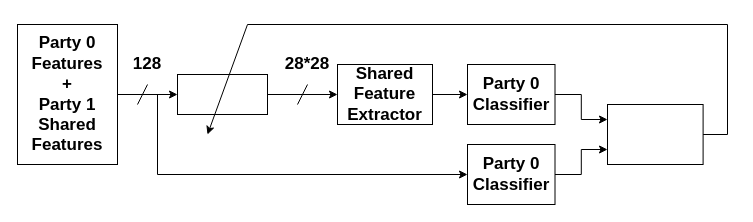
Image size: 753x222. Some labels were removed from this diagram. Here are the shapes that lost their labels. From the top down, the centre of each, then its label:
At (x=222, y=94): "Generator".
At (x=654, y=134): "Kullback-Leibler Divergence".
